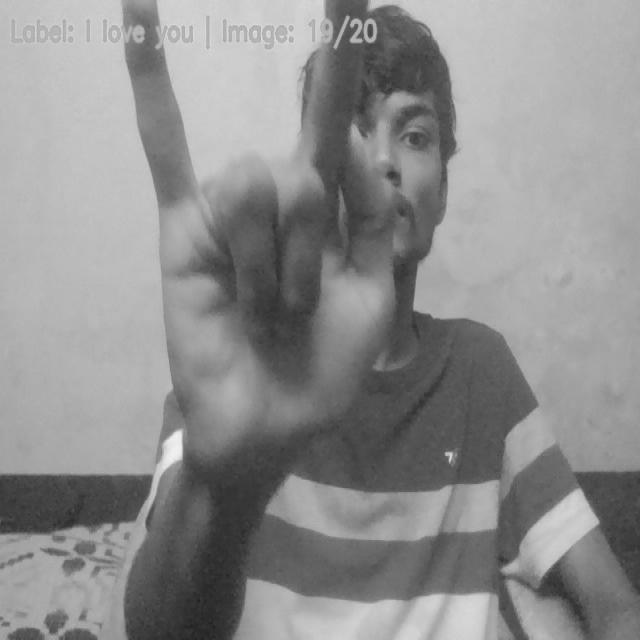I love you: (119, 0, 399, 459)
